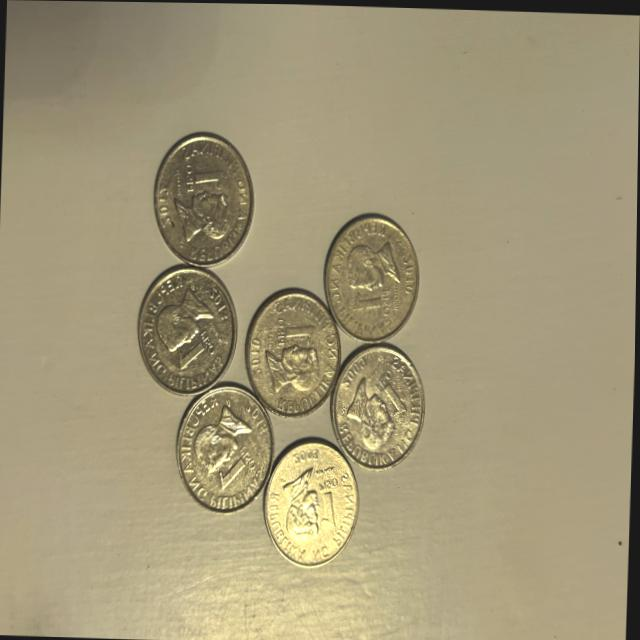1_Old_Front: (170, 150, 230, 199), (368, 363, 411, 424), (212, 446, 257, 503), (312, 469, 345, 529), (350, 279, 396, 318), (268, 315, 316, 352), (171, 333, 217, 371)
